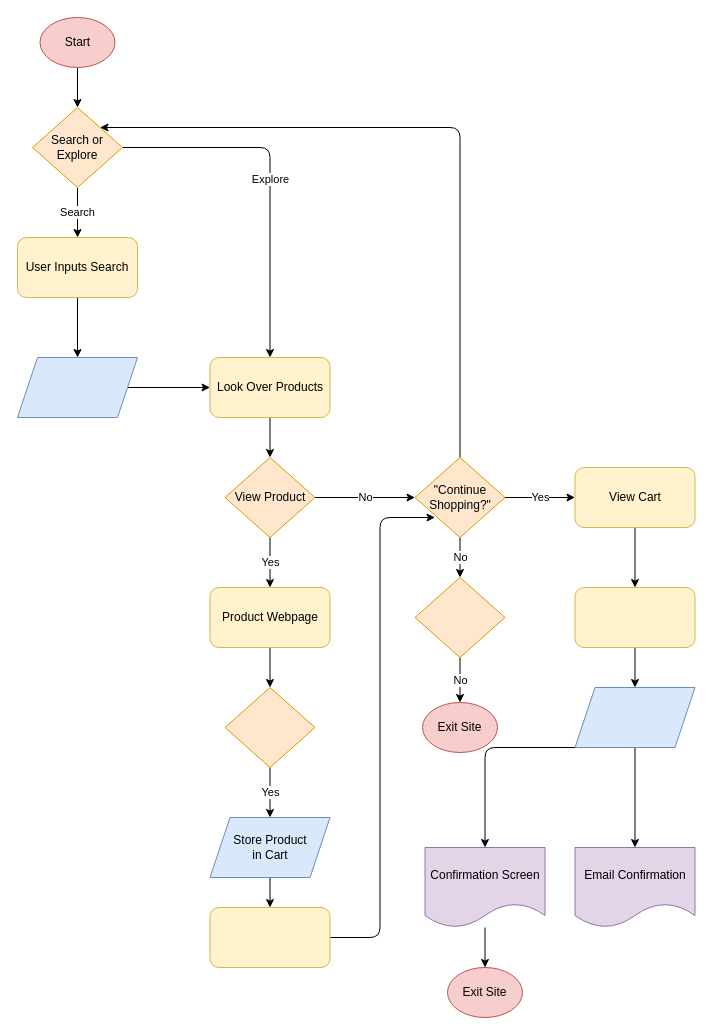
Image size: 713x1035. Some labels were removed from this diagram. The centre of each missing label's shape, as x and y in pixels:
"Add to Cart?" belongs at point (269, 727).
"Checkout" belongs at point (459, 617).
"Payment Info" belongs at point (634, 717).
"Recieve Cart Confirmation" belongs at point (269, 937).
"Search Query" belongs at point (77, 387).
"View Payment Screen" belongs at point (634, 617).
